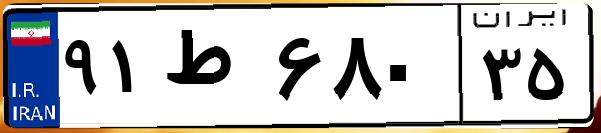0: (385, 28, 445, 110)
1: (110, 28, 158, 98)
3: (475, 38, 525, 113)
5: (525, 38, 570, 115)
6: (270, 28, 330, 110)
8: (330, 28, 385, 110)
9: (57, 26, 110, 100)
ط: (158, 20, 270, 120)
